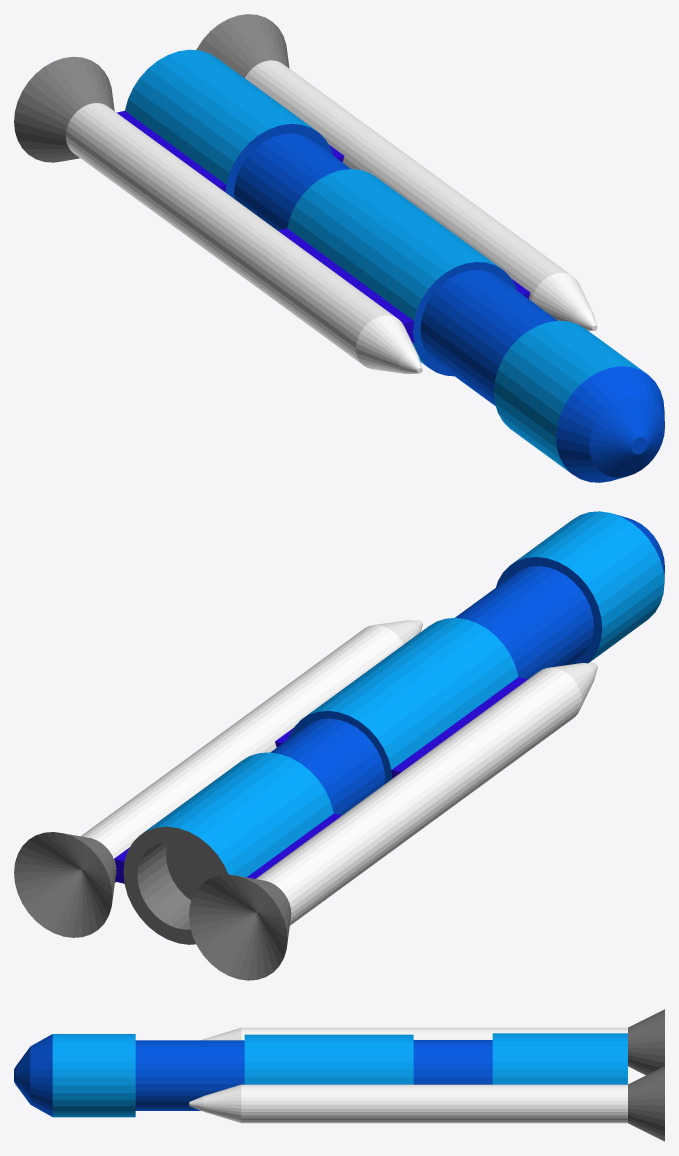
File: Rocket4.fbx
3 renders of one model, top to bottom at view 1: azimuth 30°, elevation 25°; view 2: azimuth 150°, elevation 25°; view 3: azimuth 270°, elevation 25°, orthographic. The views are drawn at different scales.
Parts seen in each view (by area): view 1: Cylinder.006; view 2: Cylinder.006; view 3: Cylinder.006.
Part boxes in pixels (x1=…): Cylinder.006: x1=14, y1=14, x2=664, y2=482; Cylinder.006: x1=14, y1=511, x2=664, y2=980; Cylinder.006: x1=14, y1=1009, x2=664, y2=1141.
Size of the model in its own units: 0.6518 by 0.2621 by 2.02.
